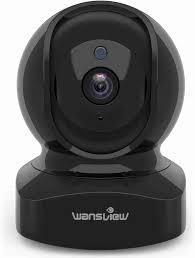maru: (13, 0, 186, 170)
